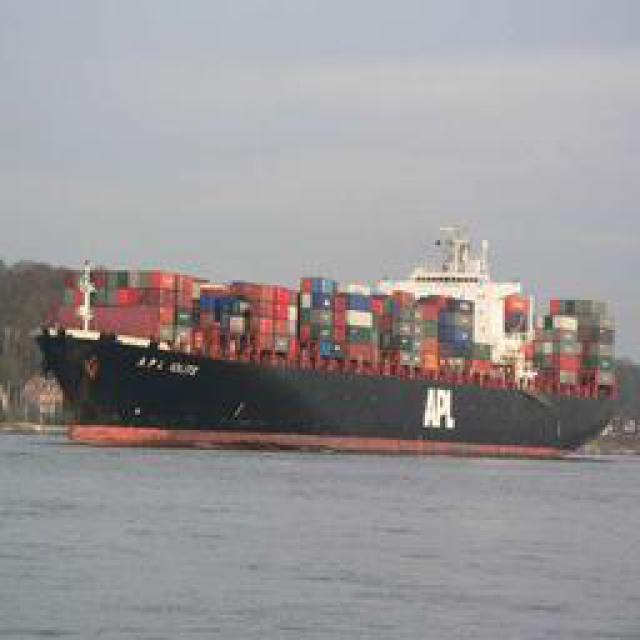Ship: (20, 216, 630, 439)
